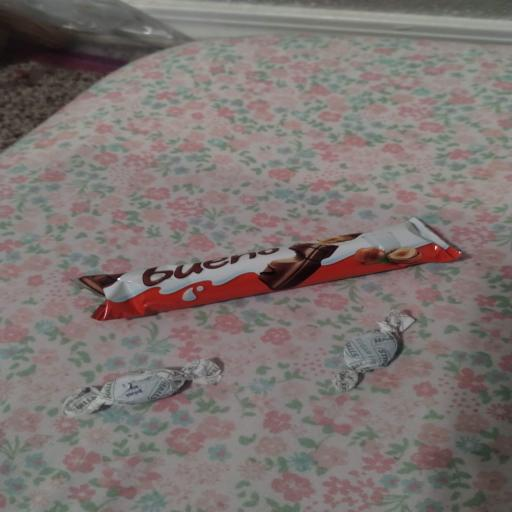chocolate: (74, 218, 461, 320), (63, 360, 221, 416), (333, 311, 414, 391)
